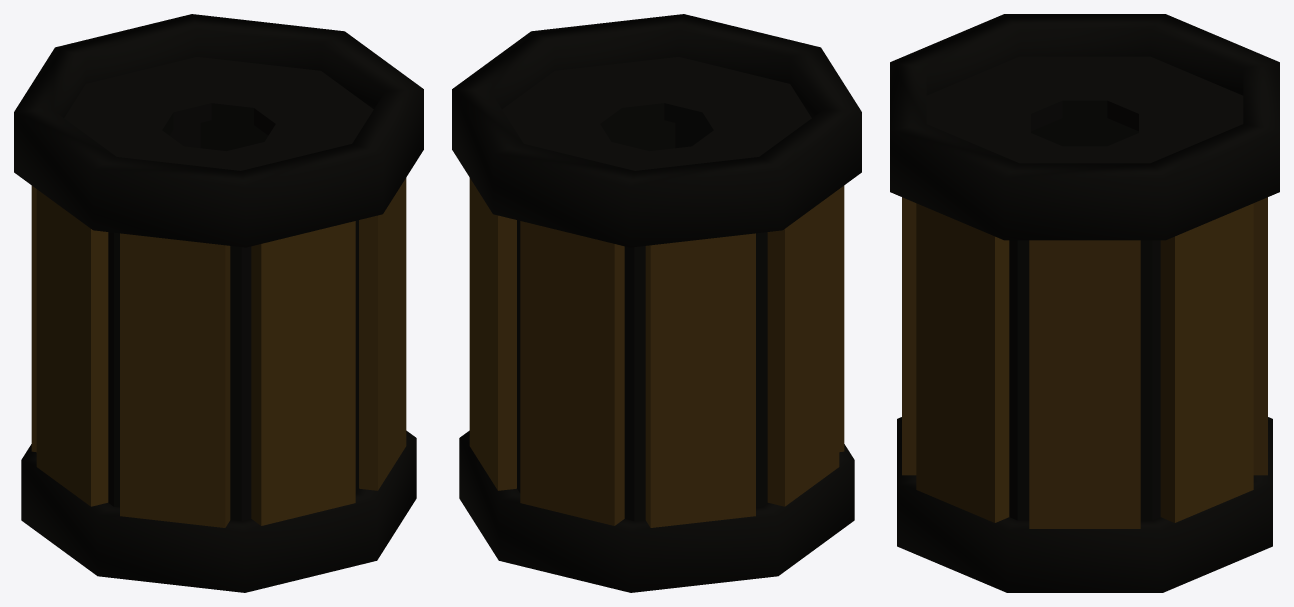
The model's file is AquaticLevelCylinderTrashBin.fbx.
3 renders of one model, left to right at view 1: azimuth 30°, elevation 25°; view 2: azimuth 150°, elevation 25°; view 3: azimuth 270°, elevation 25°, orthographic. The views are drawn at different scales.
Parts seen in each view (by area): view 1: CylinderTrash; view 2: CylinderTrash; view 3: CylinderTrash.
Part boxes in pixels (x1,y1,x2,y2): CylinderTrash: (14,14,423,592); CylinderTrash: (452,14,861,592); CylinderTrash: (890,14,1279,592).
Bounding box in the file's own units: 138 × 163 × 138.
